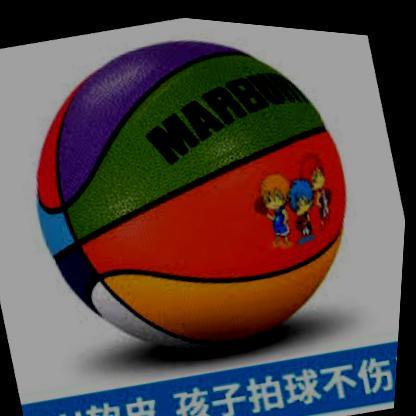basketball: (0, 1, 390, 394)
